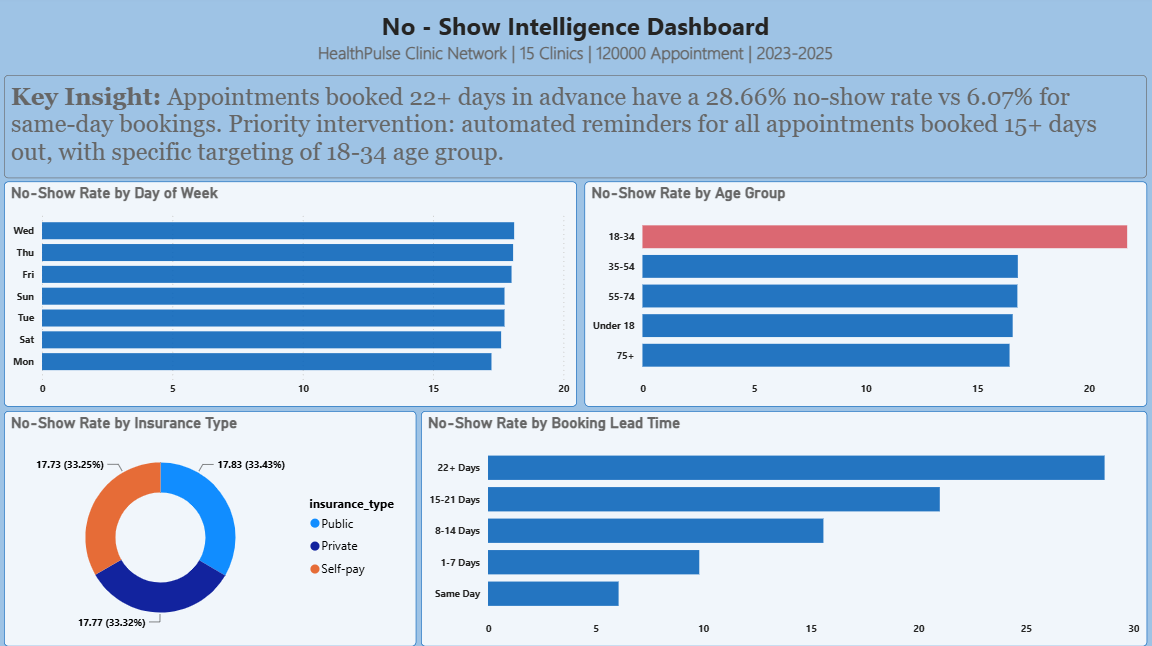

The dashboard page shown, as its layout file describes it:
{"tool":"powerbi","page":{"name":"No-Show Intelligence","canvas":[1280,720],"ordinal":1},"visuals":[{"type":"clusteredBarChart","title":"No-Show Rate by Day of Week","fields":{"Category":["No-show by day.day_of_week"],"Y":["Sum(No-show by day.no_show_rate_pct)"]},"box":[6.6,200.4,632.8,248.5],"z":0},{"type":"donutChart","title":"No-Show Rate by Insurance Type","fields":{"Category":["No-show by insurance.insurance_type"],"Y":["Sum(No-show by insurance.no_show_rate_pct)"]},"box":[6.6,453.9,455.5,260.1],"z":1000},{"type":"clusteredBarChart","title":"No-Show Rate by Age Group","fields":{"Category":["No-show by age.age_group"],"Y":["Sum(No-show by age.no_show_rate_pct)"]},"box":[647.7,200.4,621.2,248.5],"z":2000},{"type":"clusteredBarChart","title":"No-Show Rate by Booking Lead Time","fields":{"Category":["No-show by lead time.lead_time_bucket"],"Y":["Sum(No-show by lead time.no_show_rate_pct)"]},"box":[467.1,453.9,801.7,260.1],"z":3000},{"type":"textbox","box":[6.6,82.8,1262.2,114.3],"z":4000},{"type":"textbox","box":[6.6,5,1262.2,77.9],"z":5000}]}

Visuals, with their boxes in screenshot pixels (x1, y1, x2, y2), scaled from the page's 1280x720 canvas onto the 1152x646 screenshot:
"No-Show Rate by Day of Week" clusteredBarChart: {"x1": 6, "y1": 180, "x2": 575, "y2": 403}
"No-Show Rate by Insurance Type" donutChart: {"x1": 6, "y1": 407, "x2": 416, "y2": 641}
"No-Show Rate by Age Group" clusteredBarChart: {"x1": 583, "y1": 180, "x2": 1142, "y2": 403}
"No-Show Rate by Booking Lead Time" clusteredBarChart: {"x1": 420, "y1": 407, "x2": 1142, "y2": 641}
textbox: {"x1": 6, "y1": 74, "x2": 1142, "y2": 177}
textbox: {"x1": 6, "y1": 4, "x2": 1142, "y2": 74}
